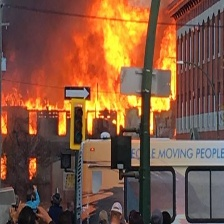fire: (1, 4, 181, 136), (20, 153, 41, 181), (1, 154, 7, 181)
